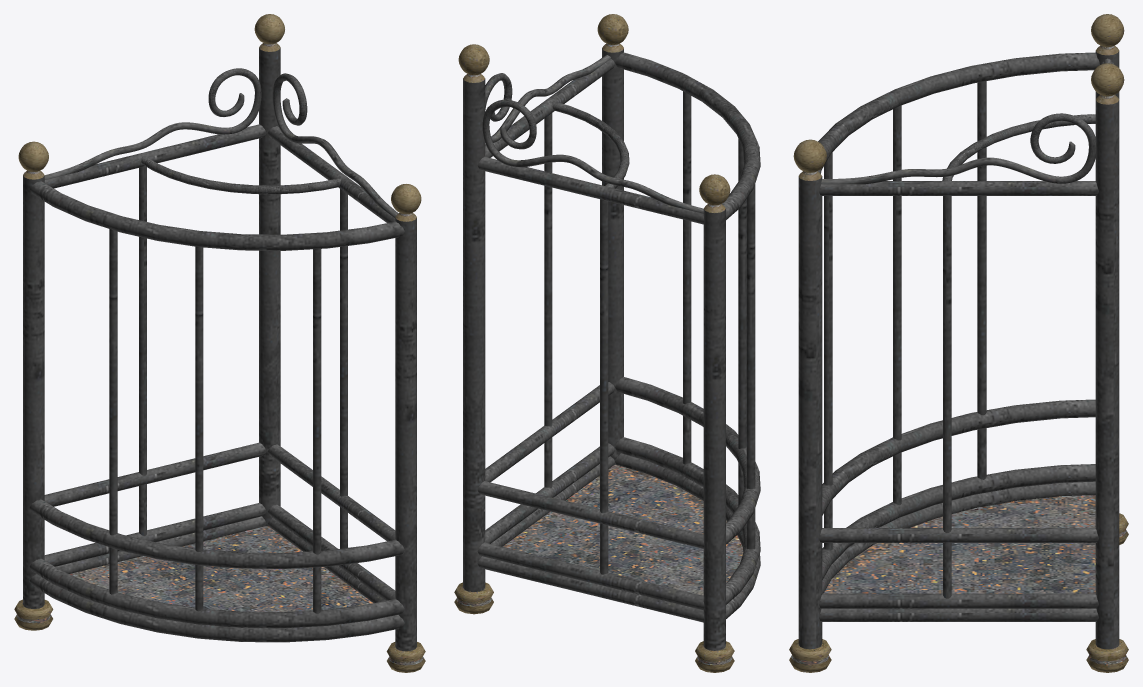
The model's file is 164_Umbrellastand.fbx.
3 renders of one model, left to right at view 1: azimuth 30°, elevation 25°; view 2: azimuth 150°, elevation 25°; view 3: azimuth 270°, elevation 25°, orthographic. The views are drawn at different scales.
Parts seen in each view (by area): view 1: LOD_1_Group_0_Sub_1__sm30_164_UmbrellaStand01A_A_Mat; view 2: LOD_1_Group_0_Sub_1__sm30_164_UmbrellaStand01A_A_Mat; view 3: LOD_1_Group_0_Sub_1__sm30_164_UmbrellaStand01A_A_Mat.
Boxes of the visible parts, bbox=[...] form: LOD_1_Group_0_Sub_1__sm30_164_UmbrellaStand01A_A_Mat: bbox=[14, 14, 425, 672]; LOD_1_Group_0_Sub_1__sm30_164_UmbrellaStand01A_A_Mat: bbox=[454, 14, 760, 672]; LOD_1_Group_0_Sub_1__sm30_164_UmbrellaStand01A_A_Mat: bbox=[789, 14, 1128, 672].
Bounding box in the file's own units: 0.4148 × 0.8086 × 0.4148.
